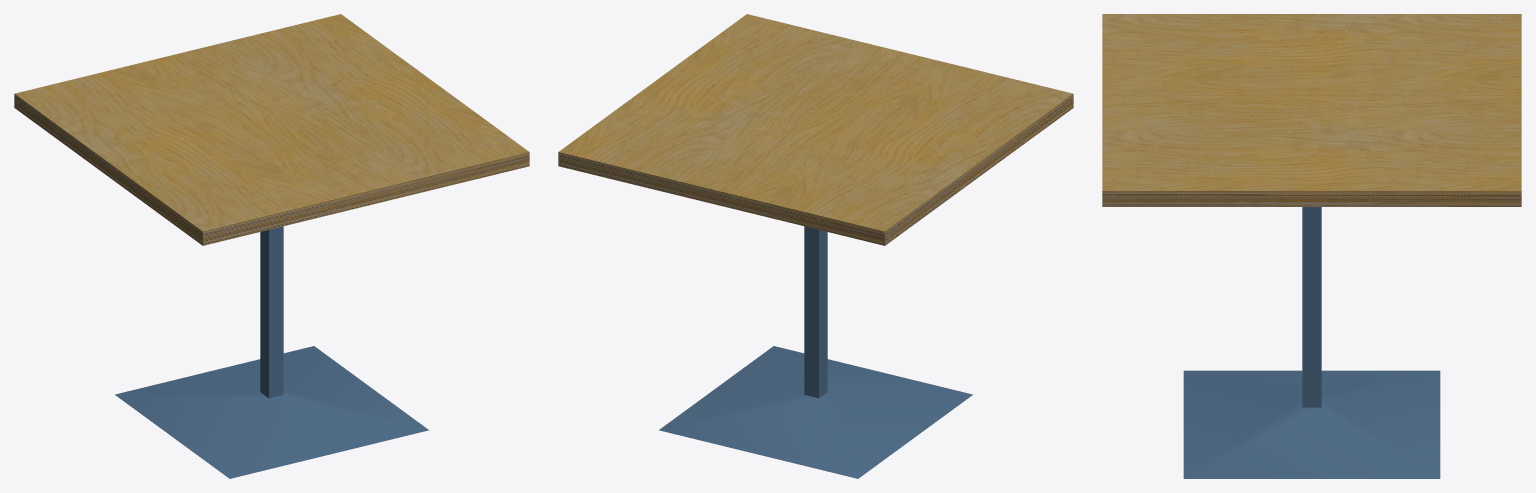
The model's file is cafe_table.dae.
3 renders of one model, left to right at view 1: azimuth 30°, elevation 25°; view 2: azimuth 150°, elevation 25°; view 3: azimuth 270°, elevation 25°, orthographic. The views are drawn at different scales.
Visible parts, largest first — view 1: Top_Square (×2), SketchUp; view 2: Top_Square (×2), SketchUp; view 3: Top_Square (×2), SketchUp.
Part boxes in pixels (x1,y1,x2,y2): Top_Square (×2): (14, 14, 529, 245); SketchUp: (115, 226, 428, 478); Top_Square (×2): (558, 14, 1073, 245); SketchUp: (659, 226, 972, 478); Top_Square (×2): (1102, 14, 1521, 206); SketchUp: (1183, 207, 1440, 478).
Bounding box in the file's own units: 36 × 36 × 30.5.
3 materials, 2 textured.
